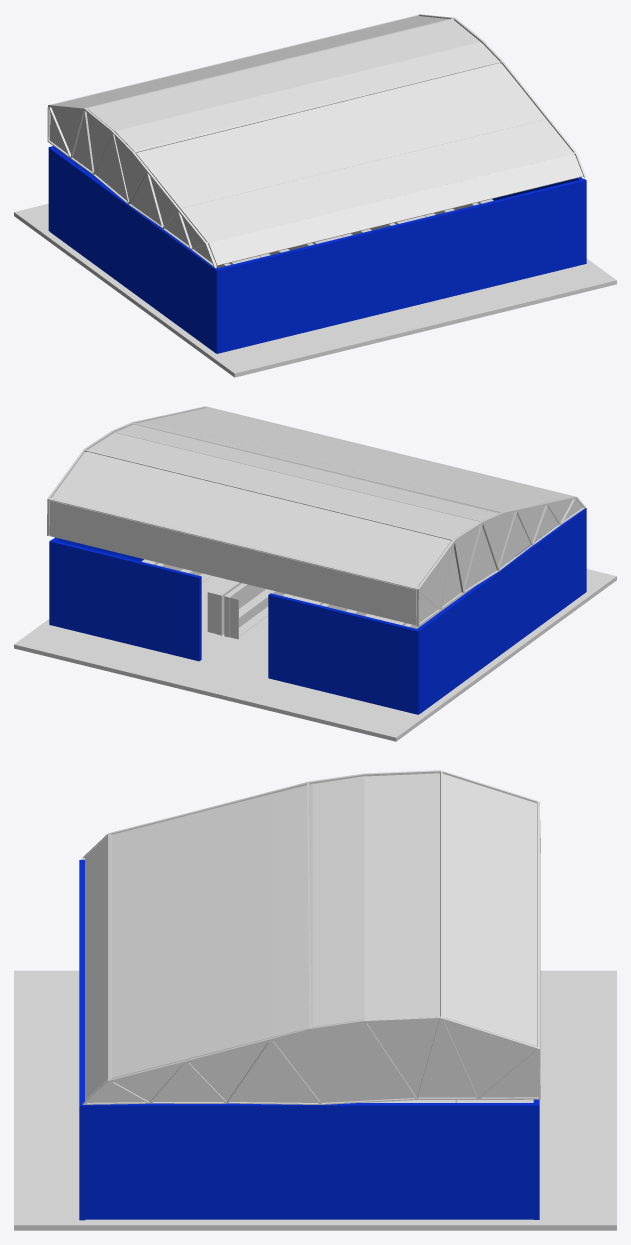
File: mall.fbx
3 views of the same model, one above another, from view 1: azimuth 30°, elevation 25°; view 2: azimuth 150°, elevation 25°; view 3: azimuth 270°, elevation 25° (orthographic). The views are drawn at different scales.
Visible parts, largest first — view 1: Cube.010, Cube.007, Cube.008, Cube.011, Floor, Cube.004, Cube.009, Cube.005, Cube.006, IronRods, Cube.002, Cube.003; view 2: Cube.003, Floor, Cube.011, Cube.015, Cube.014, Cube.013, Cube.004, IronRods, Cube.002, Cube.007, Cube.005, Cube.008 (+3 smaller); view 3: Cube.012, Floor, Cube.001, Cube.003, Cube.007, Cube.004, Cube.008, Cube.005, IronRods, Cube.006, Cube.009, Cube.010 (+1 smaller).
Part boxes in pixels (x1,y1,x2,y2): Cube.010: [216, 179, 586, 353]; Cube.007: [149, 80, 545, 208]; Cube.008: [180, 119, 572, 241]; Cube.011: [49, 147, 219, 353]; Floor: [14, 199, 616, 377]; Cube.004: [87, 19, 479, 131]; Cube.009: [208, 154, 582, 265]; Cube.005: [115, 42, 498, 150]; Cube.006: [134, 62, 513, 169]; IronRods: [47, 14, 586, 267]; Cube.002: [50, 107, 216, 265]; Cube.003: [53, 16, 448, 107]; Cube.003: [52, 451, 451, 587]; Floor: [14, 559, 616, 741]; Cube.011: [416, 508, 586, 713]; Cube.015: [50, 500, 416, 625]; Cube.014: [49, 540, 201, 661]; Cube.013: [268, 593, 419, 714]; Cube.004: [86, 432, 479, 540]; IronRods: [47, 406, 585, 626]; Cube.002: [419, 499, 582, 622]; Cube.007: [150, 413, 545, 509]; Cube.005: [115, 424, 498, 521]; Cube.008: [181, 407, 572, 502]; Cube.012: [81, 1103, 536, 1219]; Floor: [14, 970, 616, 1230]; Cube.001: [88, 1020, 538, 1102]; Cube.003: [442, 774, 536, 1046]; Cube.007: [185, 794, 271, 1059]; Cube.004: [364, 773, 439, 1019]; Cube.008: [111, 816, 185, 1078]; Cube.005: [312, 776, 364, 1027]; IronRods: [82, 770, 540, 1104]; Cube.006: [271, 783, 312, 1037]; Cube.009: [85, 836, 107, 1100]; Cube.010: [79, 860, 85, 1220].
Size of the model in its own units: 2000 by 767 by 2000.
